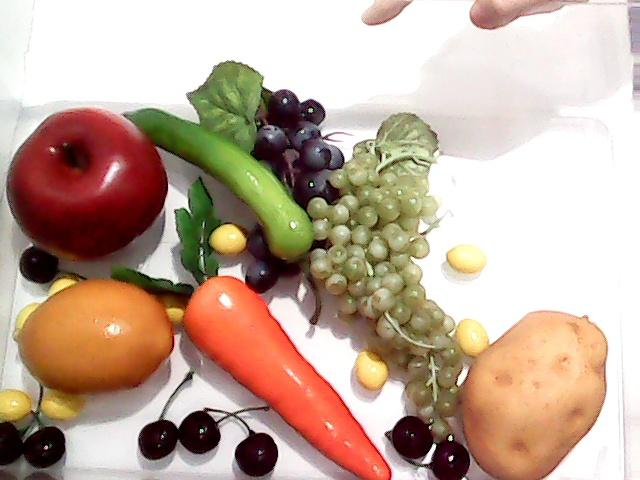apple: (2, 98, 170, 262)
carrot: (111, 175, 392, 480)
grape: (308, 154, 460, 442), (241, 84, 347, 292)
lemon: (10, 271, 194, 396)
pepper: (121, 95, 322, 269)
potato: (459, 308, 609, 480)
